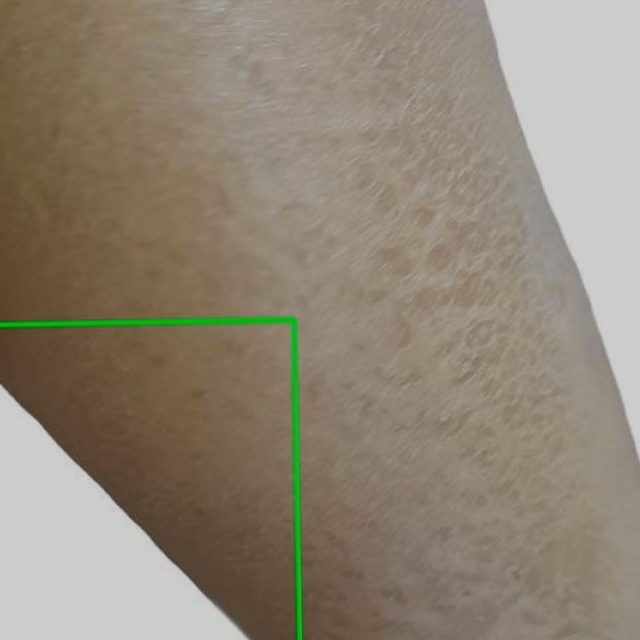Contact Dermatitis: (0, 319, 298, 639)
